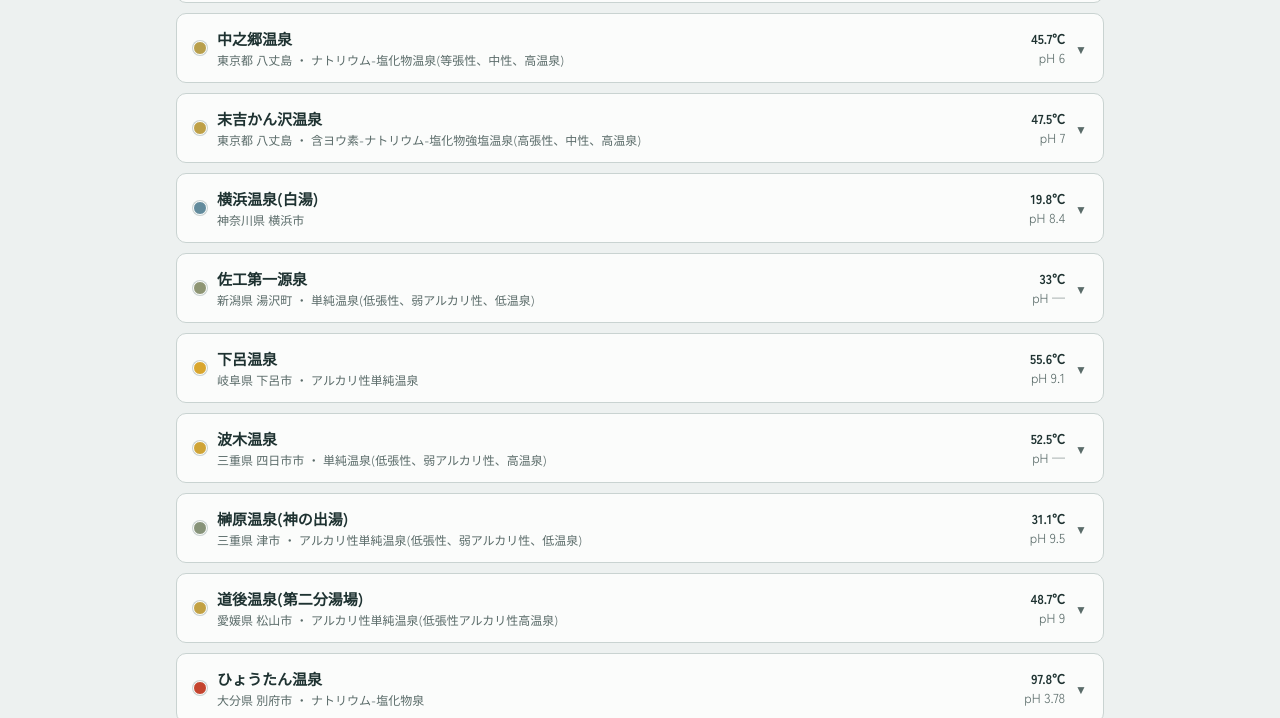
Test case: 既定データ › 既定データは海水と違い編集・削除できる
(page scrolled)
Click the text "下呂温泉".
click(247, 358)  # box [217,348,277,369]
(page scrolled)
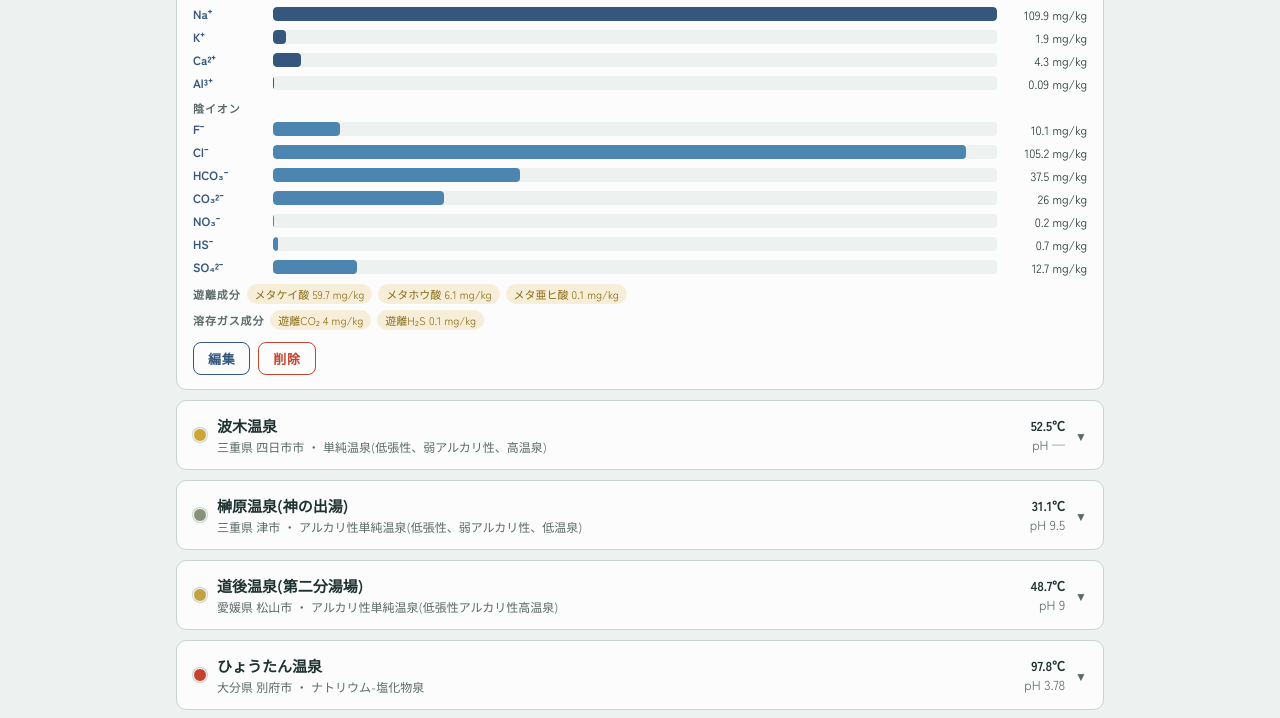
Check: the button "編集" is shown, box [193,342,250,375]
Check: the button "削除" is shown, box [258,342,316,375]
